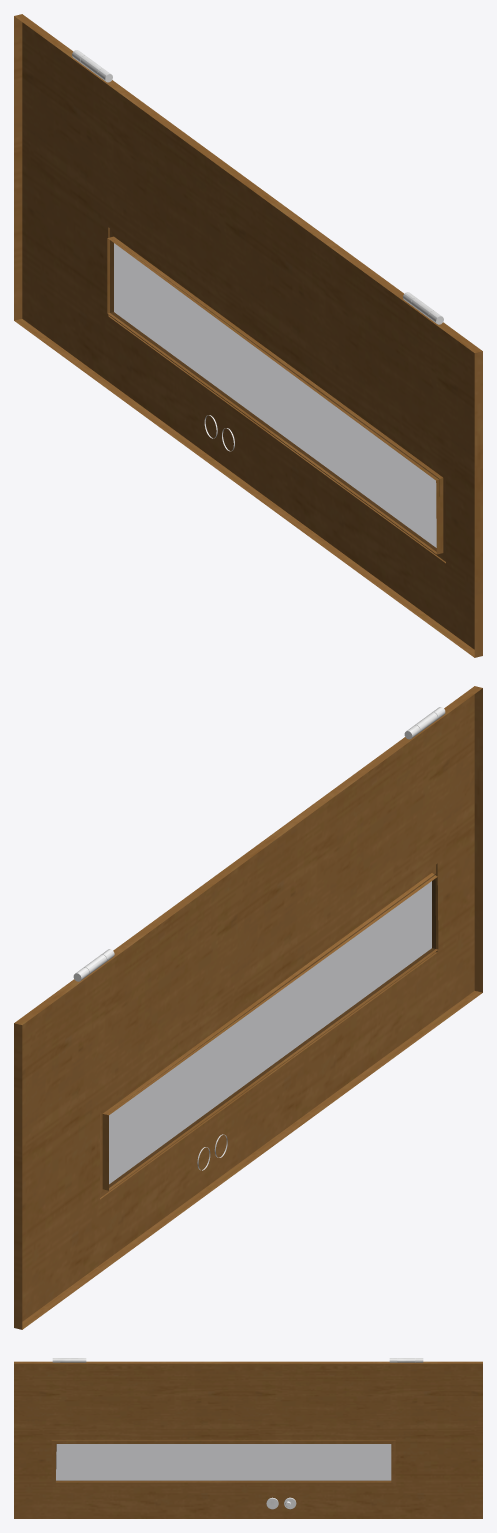
The model's file is Door03.obj.
3 renders of one model, top to bottom at view 1: azimuth 30°, elevation 25°; view 2: azimuth 150°, elevation 25°; view 3: azimuth 270°, elevation 25°, orthographic. The views are drawn at different scales.
Parts seen in each view (by area): view 1: Door; view 2: Door; view 3: Door.
Part boxes in pixels (bbox=[...]): Door: bbox=[14, 14, 482, 657]; Door: bbox=[14, 686, 482, 1329]; Door: bbox=[14, 1358, 482, 1518].
Bounding box in the file's own units: 0.0459 × 0.814 × 2.17.
3 materials, 2 textured.
